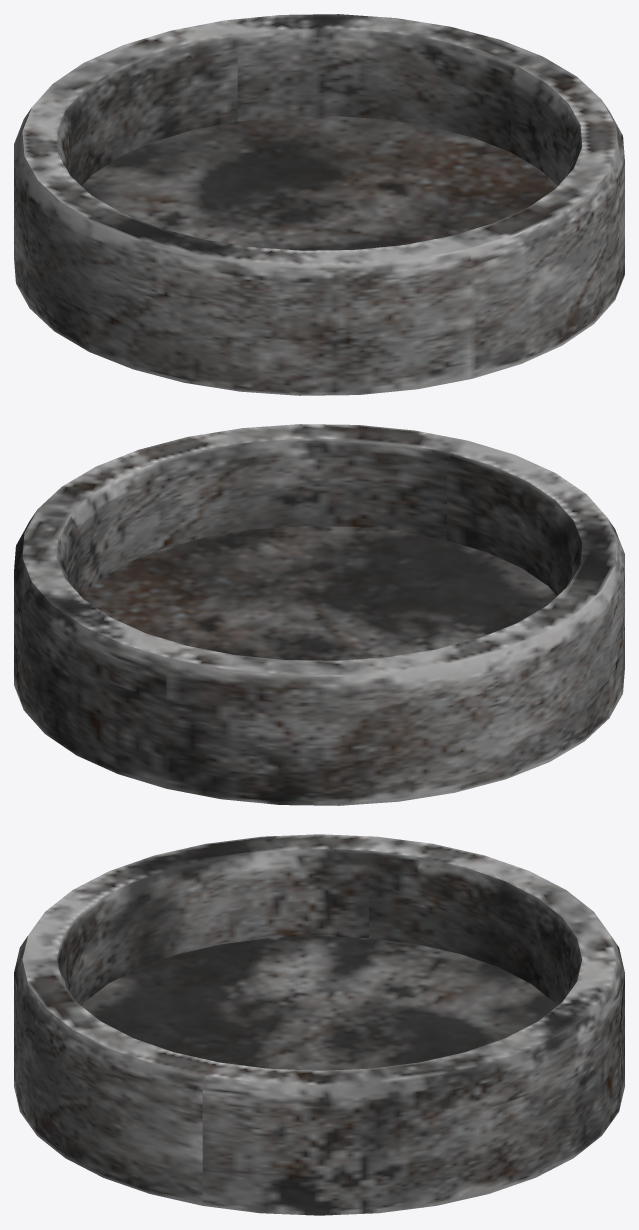
Rendered from Dog_Bowl.fbx.
3 views of the same model, one above another, from view 1: azimuth 30°, elevation 25°; view 2: azimuth 150°, elevation 25°; view 3: azimuth 270°, elevation 25° (orthographic).
Visible parts, largest first — view 1: Cylinder.001; view 2: Cylinder.001; view 3: Cylinder.001.
Boxes of the visible parts, x1,y1,x2,y2 form: Cylinder.001: (14, 14, 624, 395); Cylinder.001: (14, 424, 624, 805); Cylinder.001: (14, 834, 624, 1215).
Bounding box in the file's own units: 27.93 × 6.4 × 27.93.
